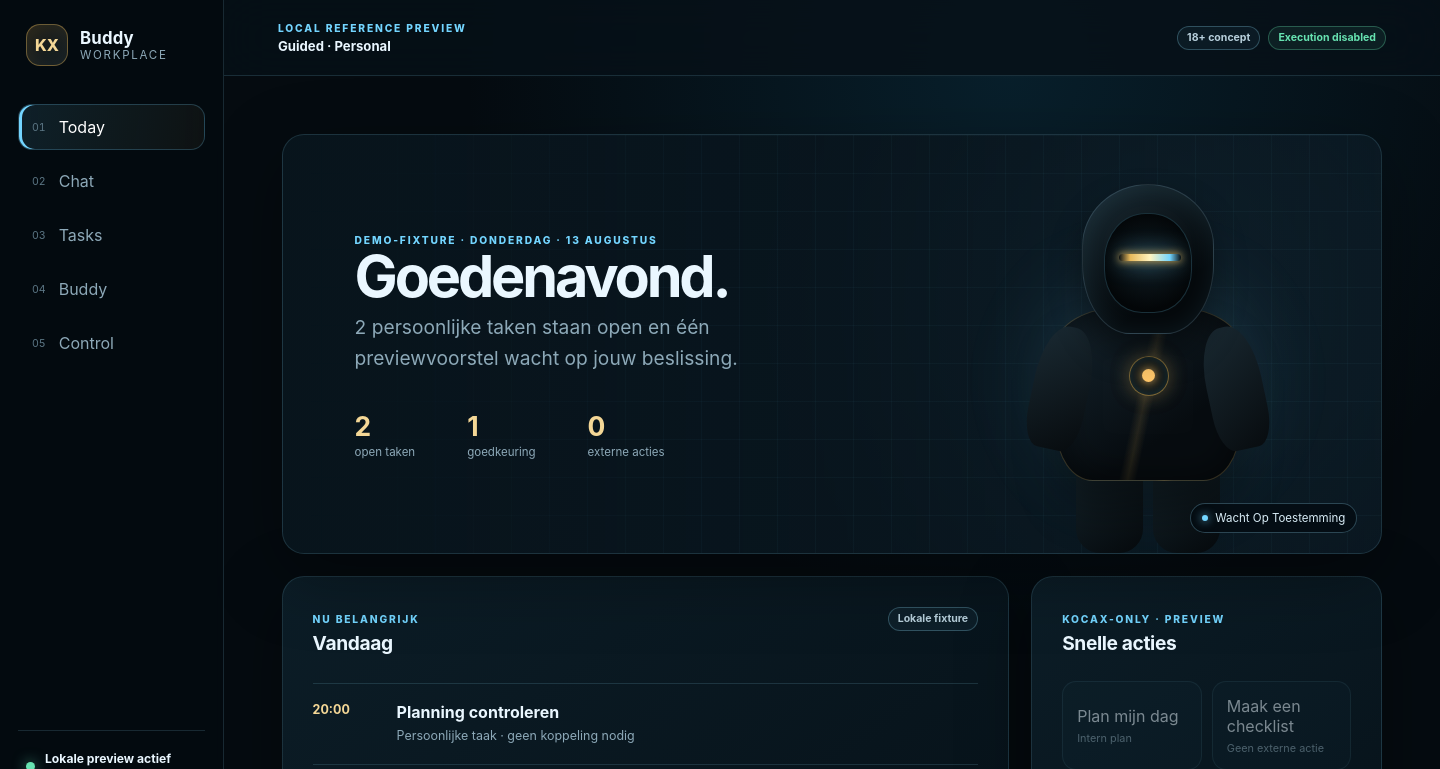
Test: Buddy Workplace preview › derives Today counts and copy from local task state
Click the button named "03tasks": {"x": 112, "y": 235} [18, 212, 205, 258]
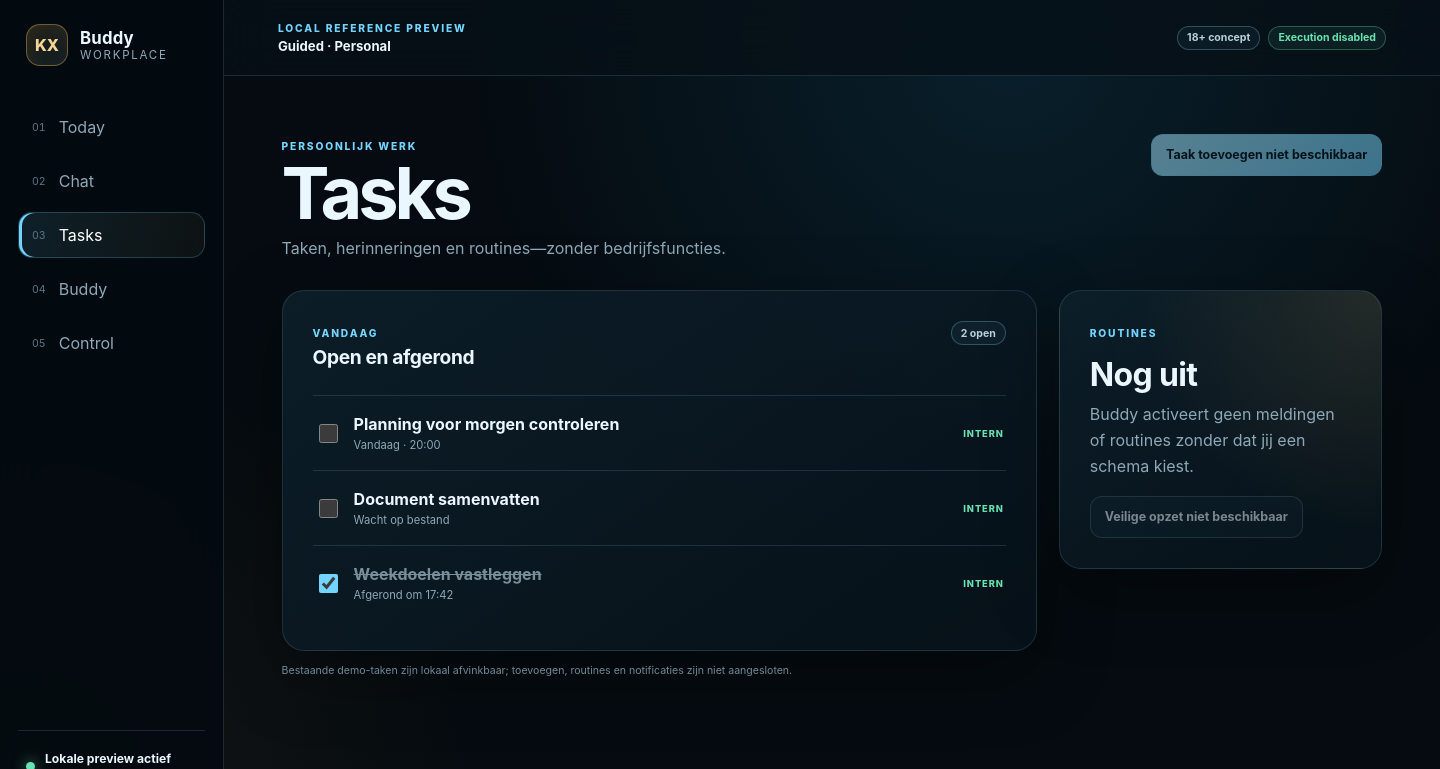
expect the checkbox labelled "Planning voor morgen controleren Vandaag · 20:00 INTERN" is not checked: met
Click the checkbox labelled "Planning voor morgen controleren Vandaag · 20:00 INTERN": {"x": 328, "y": 433} [319, 424, 338, 442]
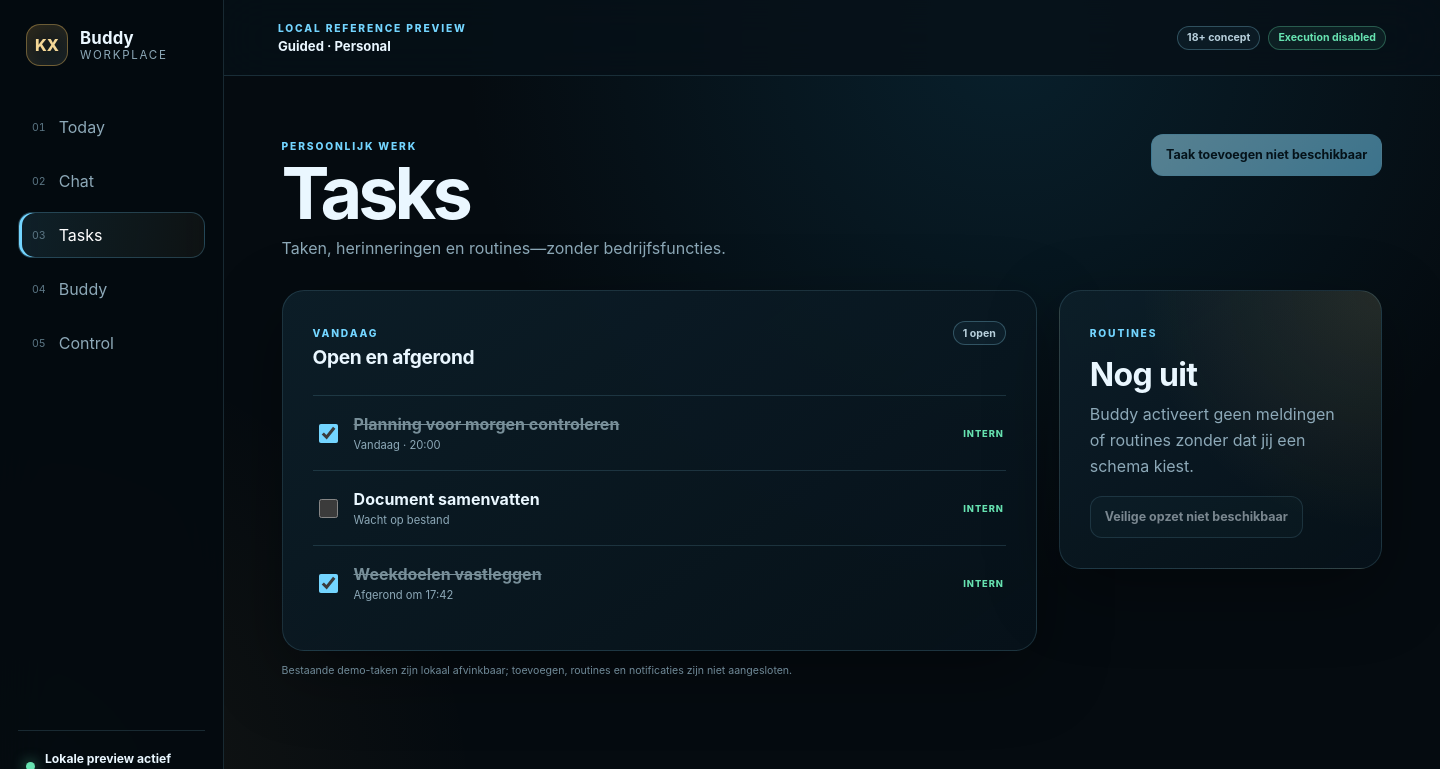
expect the checkbox labelled "Planning voor morgen controleren Vandaag · 20:00 INTERN" is checked: met, box [319, 424, 338, 442]
expect the button "Taak toevoegen niet beschikbaar" is disabled: met, box [1151, 134, 1382, 176]
Click the button named "01today": {"x": 112, "y": 127} [18, 104, 205, 150]
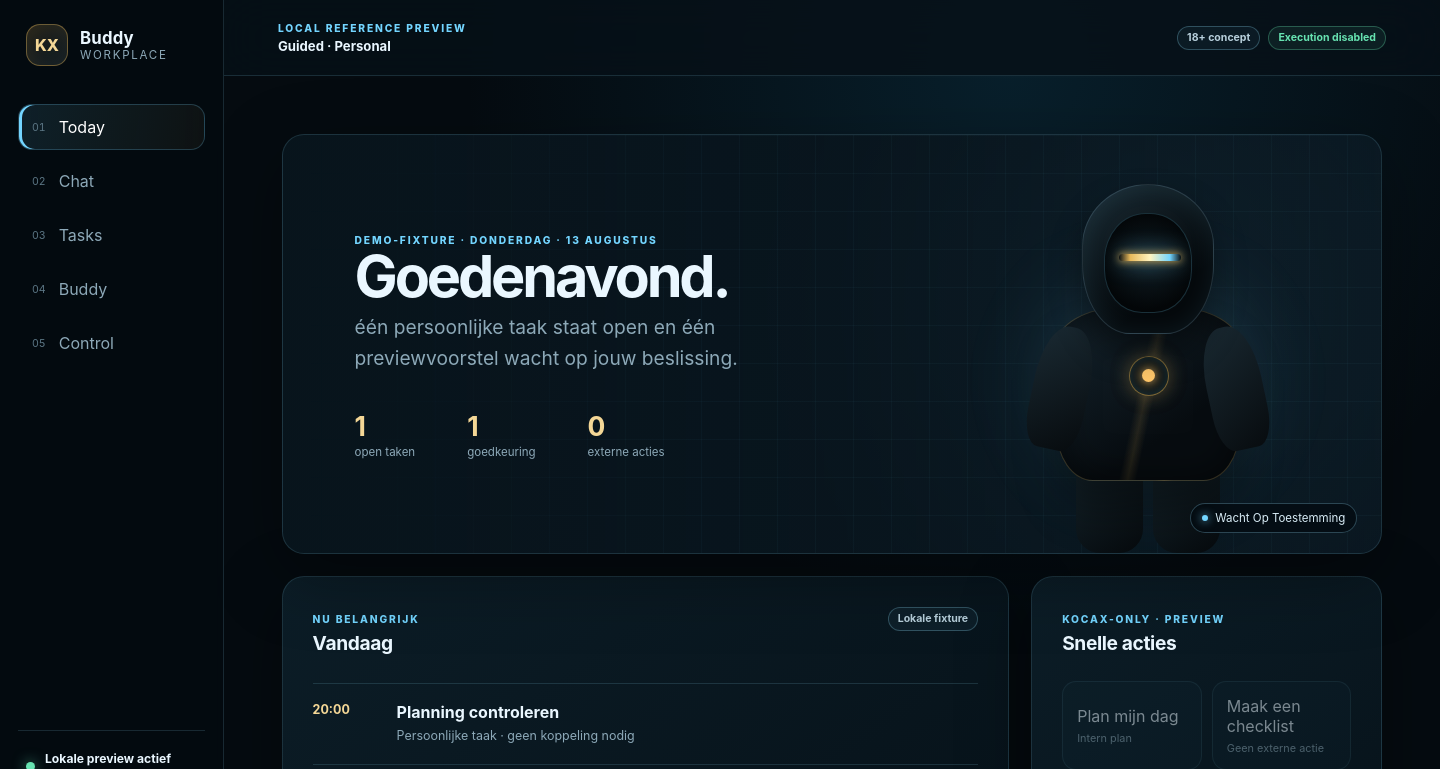
expect the text "één persoonlijke taak staat open" is shown: met, box [355, 315, 648, 339]
